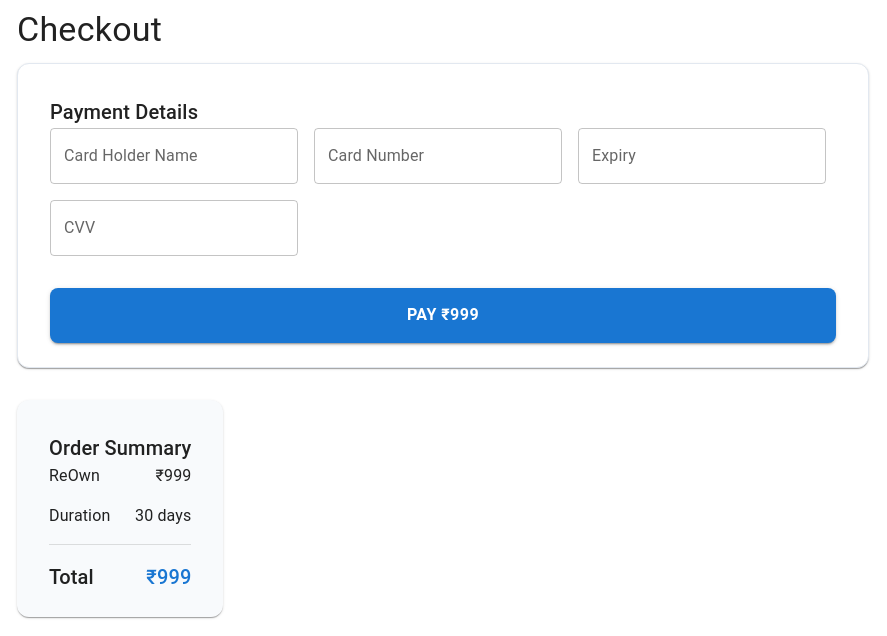
it: Checkout Component › formats expiry input
Type "1225" into the field labelled "Expiry" at (702, 156), box x1=578 y1=128 x2=826 y2=184
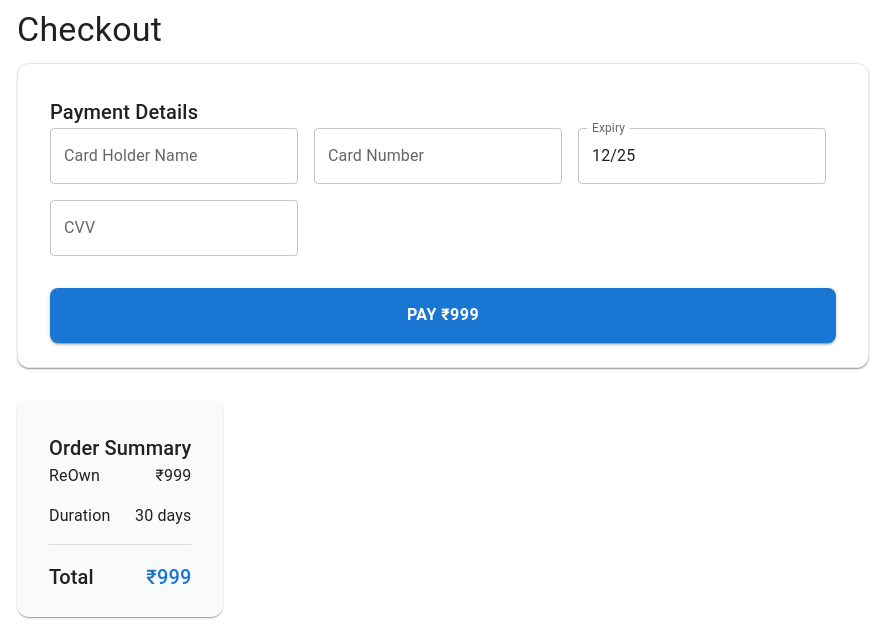
Expected: the field labelled "Expiry" holds "12/25", x1=578 y1=128 x2=826 y2=184
